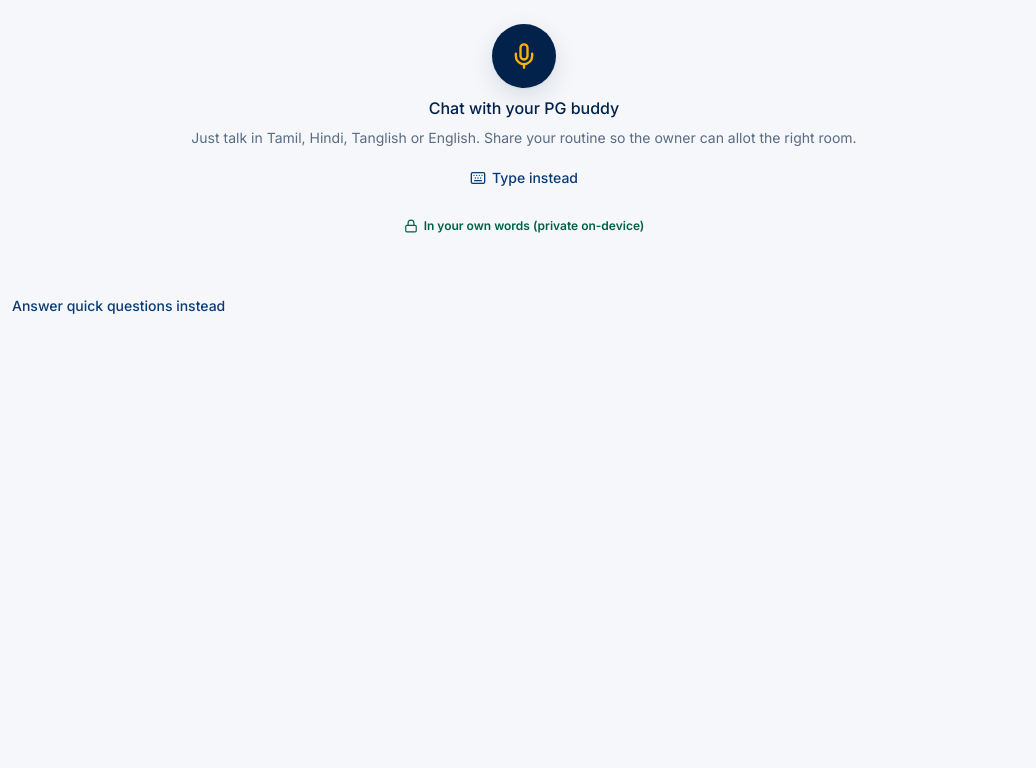
Test case: VibeProfileBuilder (voice VibeCheck) › extracts VibeCheck habits privately on-device without sending free-text to the server
The width and height of the screenshot is (1036, 768).
Click the button "In your own words (private on-device)" at (524, 226), box [404,208,644,244]
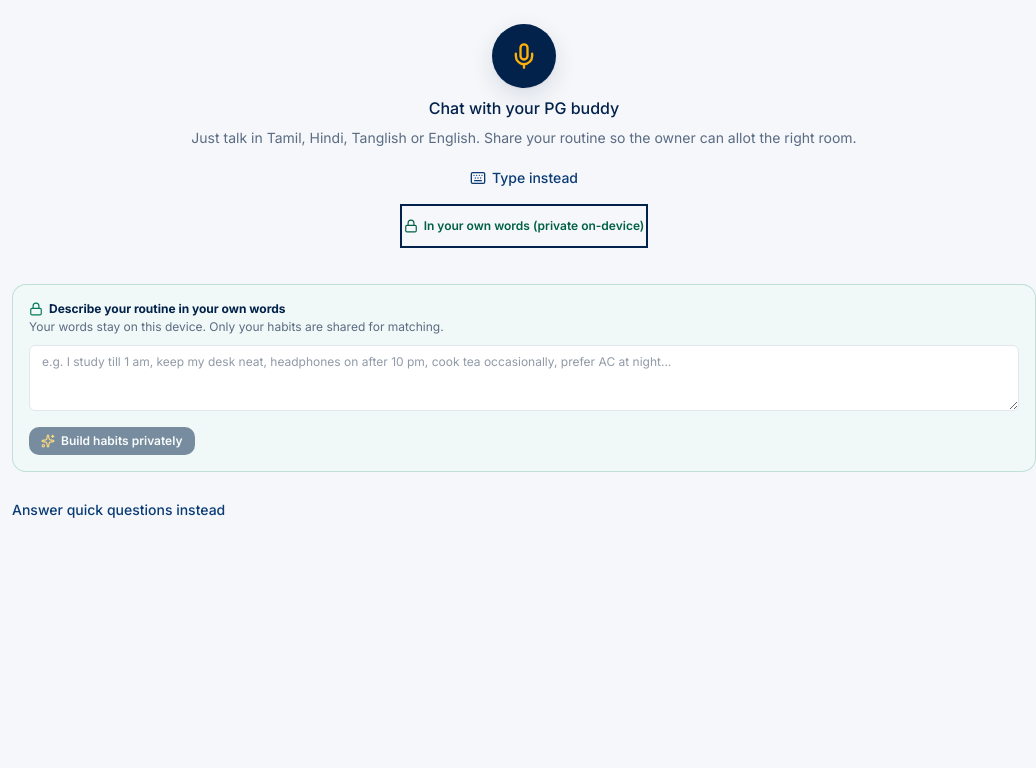
Expected: the text "Your words stay on this device. Only your habits are shared for matching." is shown, [29,319,444,335]
Type "I study past midnight, keep my desk neat, and always use headphones." into the text box named "Describe your daily routine" at (524, 378), box [29,345,1019,411]
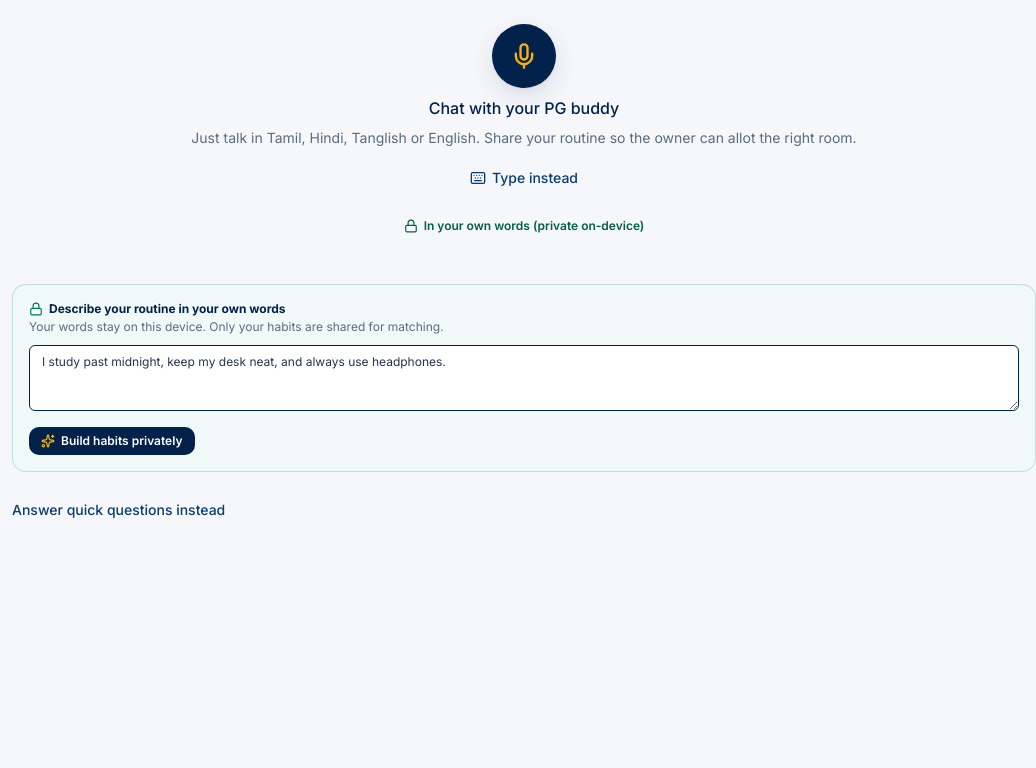
Click the button "Build habits privately" at (112, 441), box [29,427,194,455]
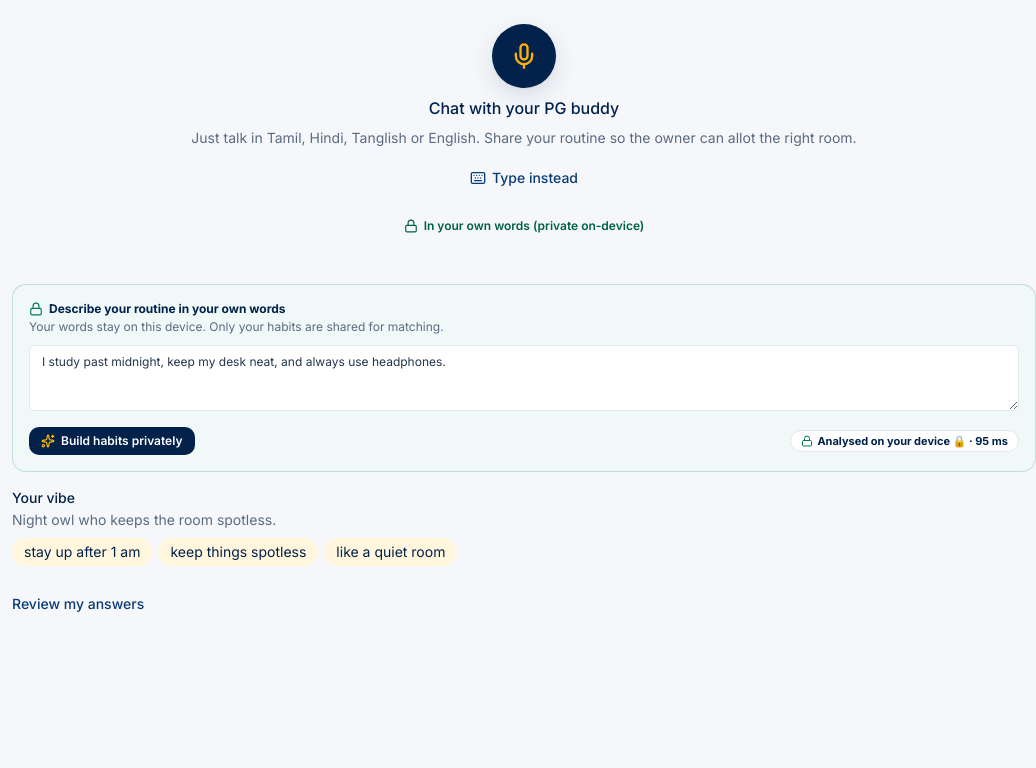
Expected: the text "Analysed on your device 🔒 · 95 ms" is shown, [790,430,1019,452]
Expected: the text "Night owl who keeps the room spotless." is shown, [12,511,276,528]
